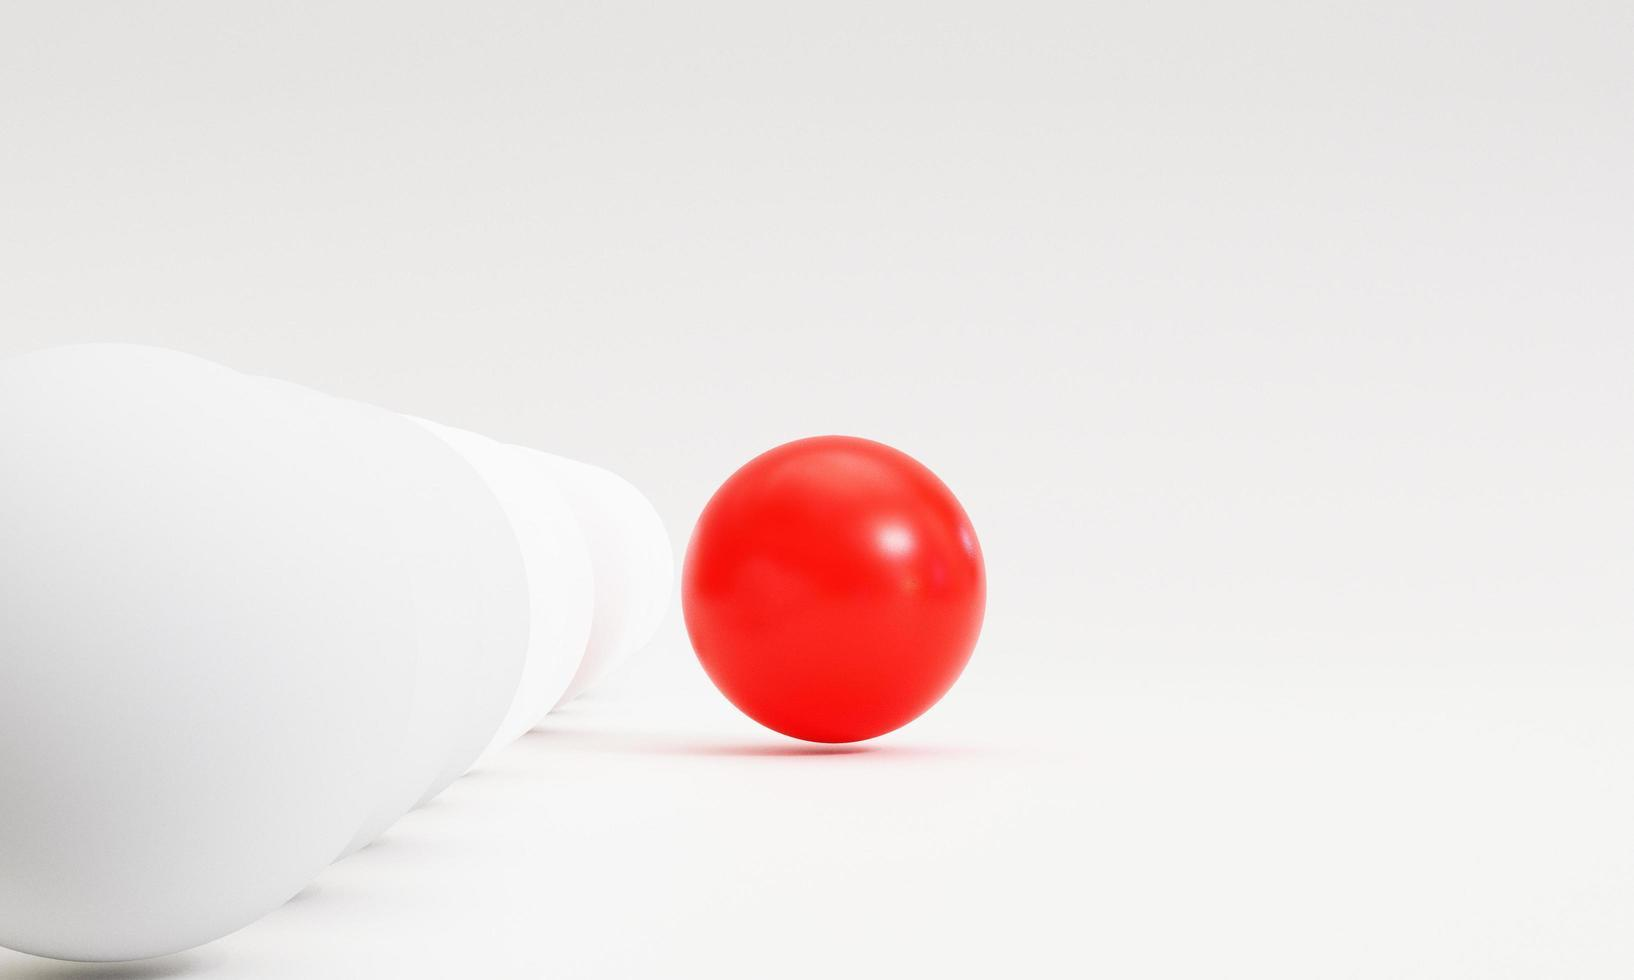Red_Ball: (659, 407, 995, 778)
